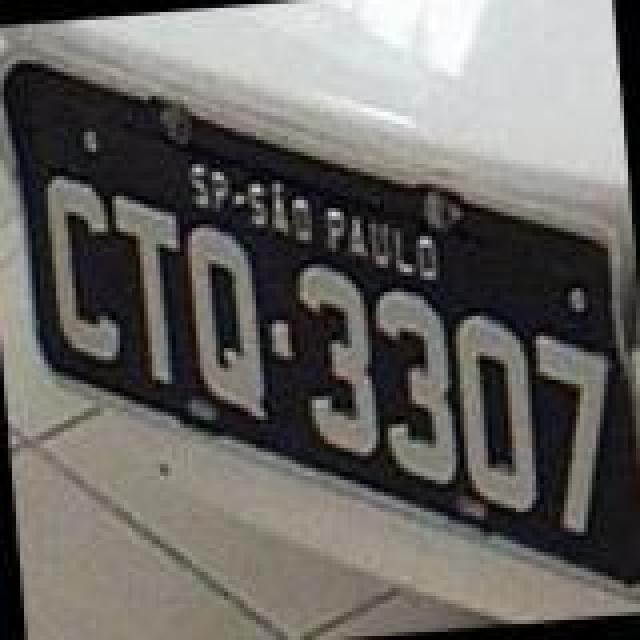3: (288, 258, 384, 470), (368, 282, 464, 494)
7: (532, 326, 628, 546)
C: (36, 172, 124, 372)
O: (450, 308, 542, 524)
Q: (178, 218, 270, 430)
T: (112, 182, 192, 394)
